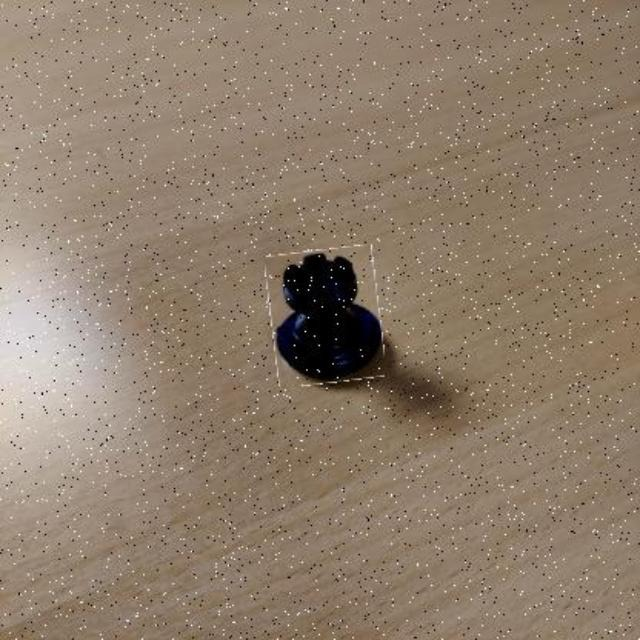black-rook: (267, 249, 382, 385)
